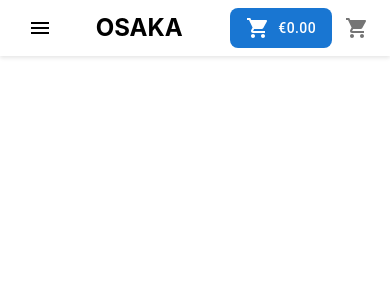
Test: Navbar Component › responds to mobile menu button click
Step 1. Click the button with test id "MenuIcon" → [40, 28], box [16, 4, 64, 52]
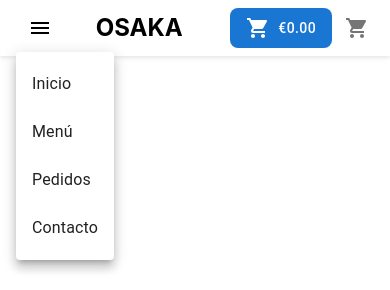
Now the menu item "Inicio" is shown, box [32, 74, 71, 93]
